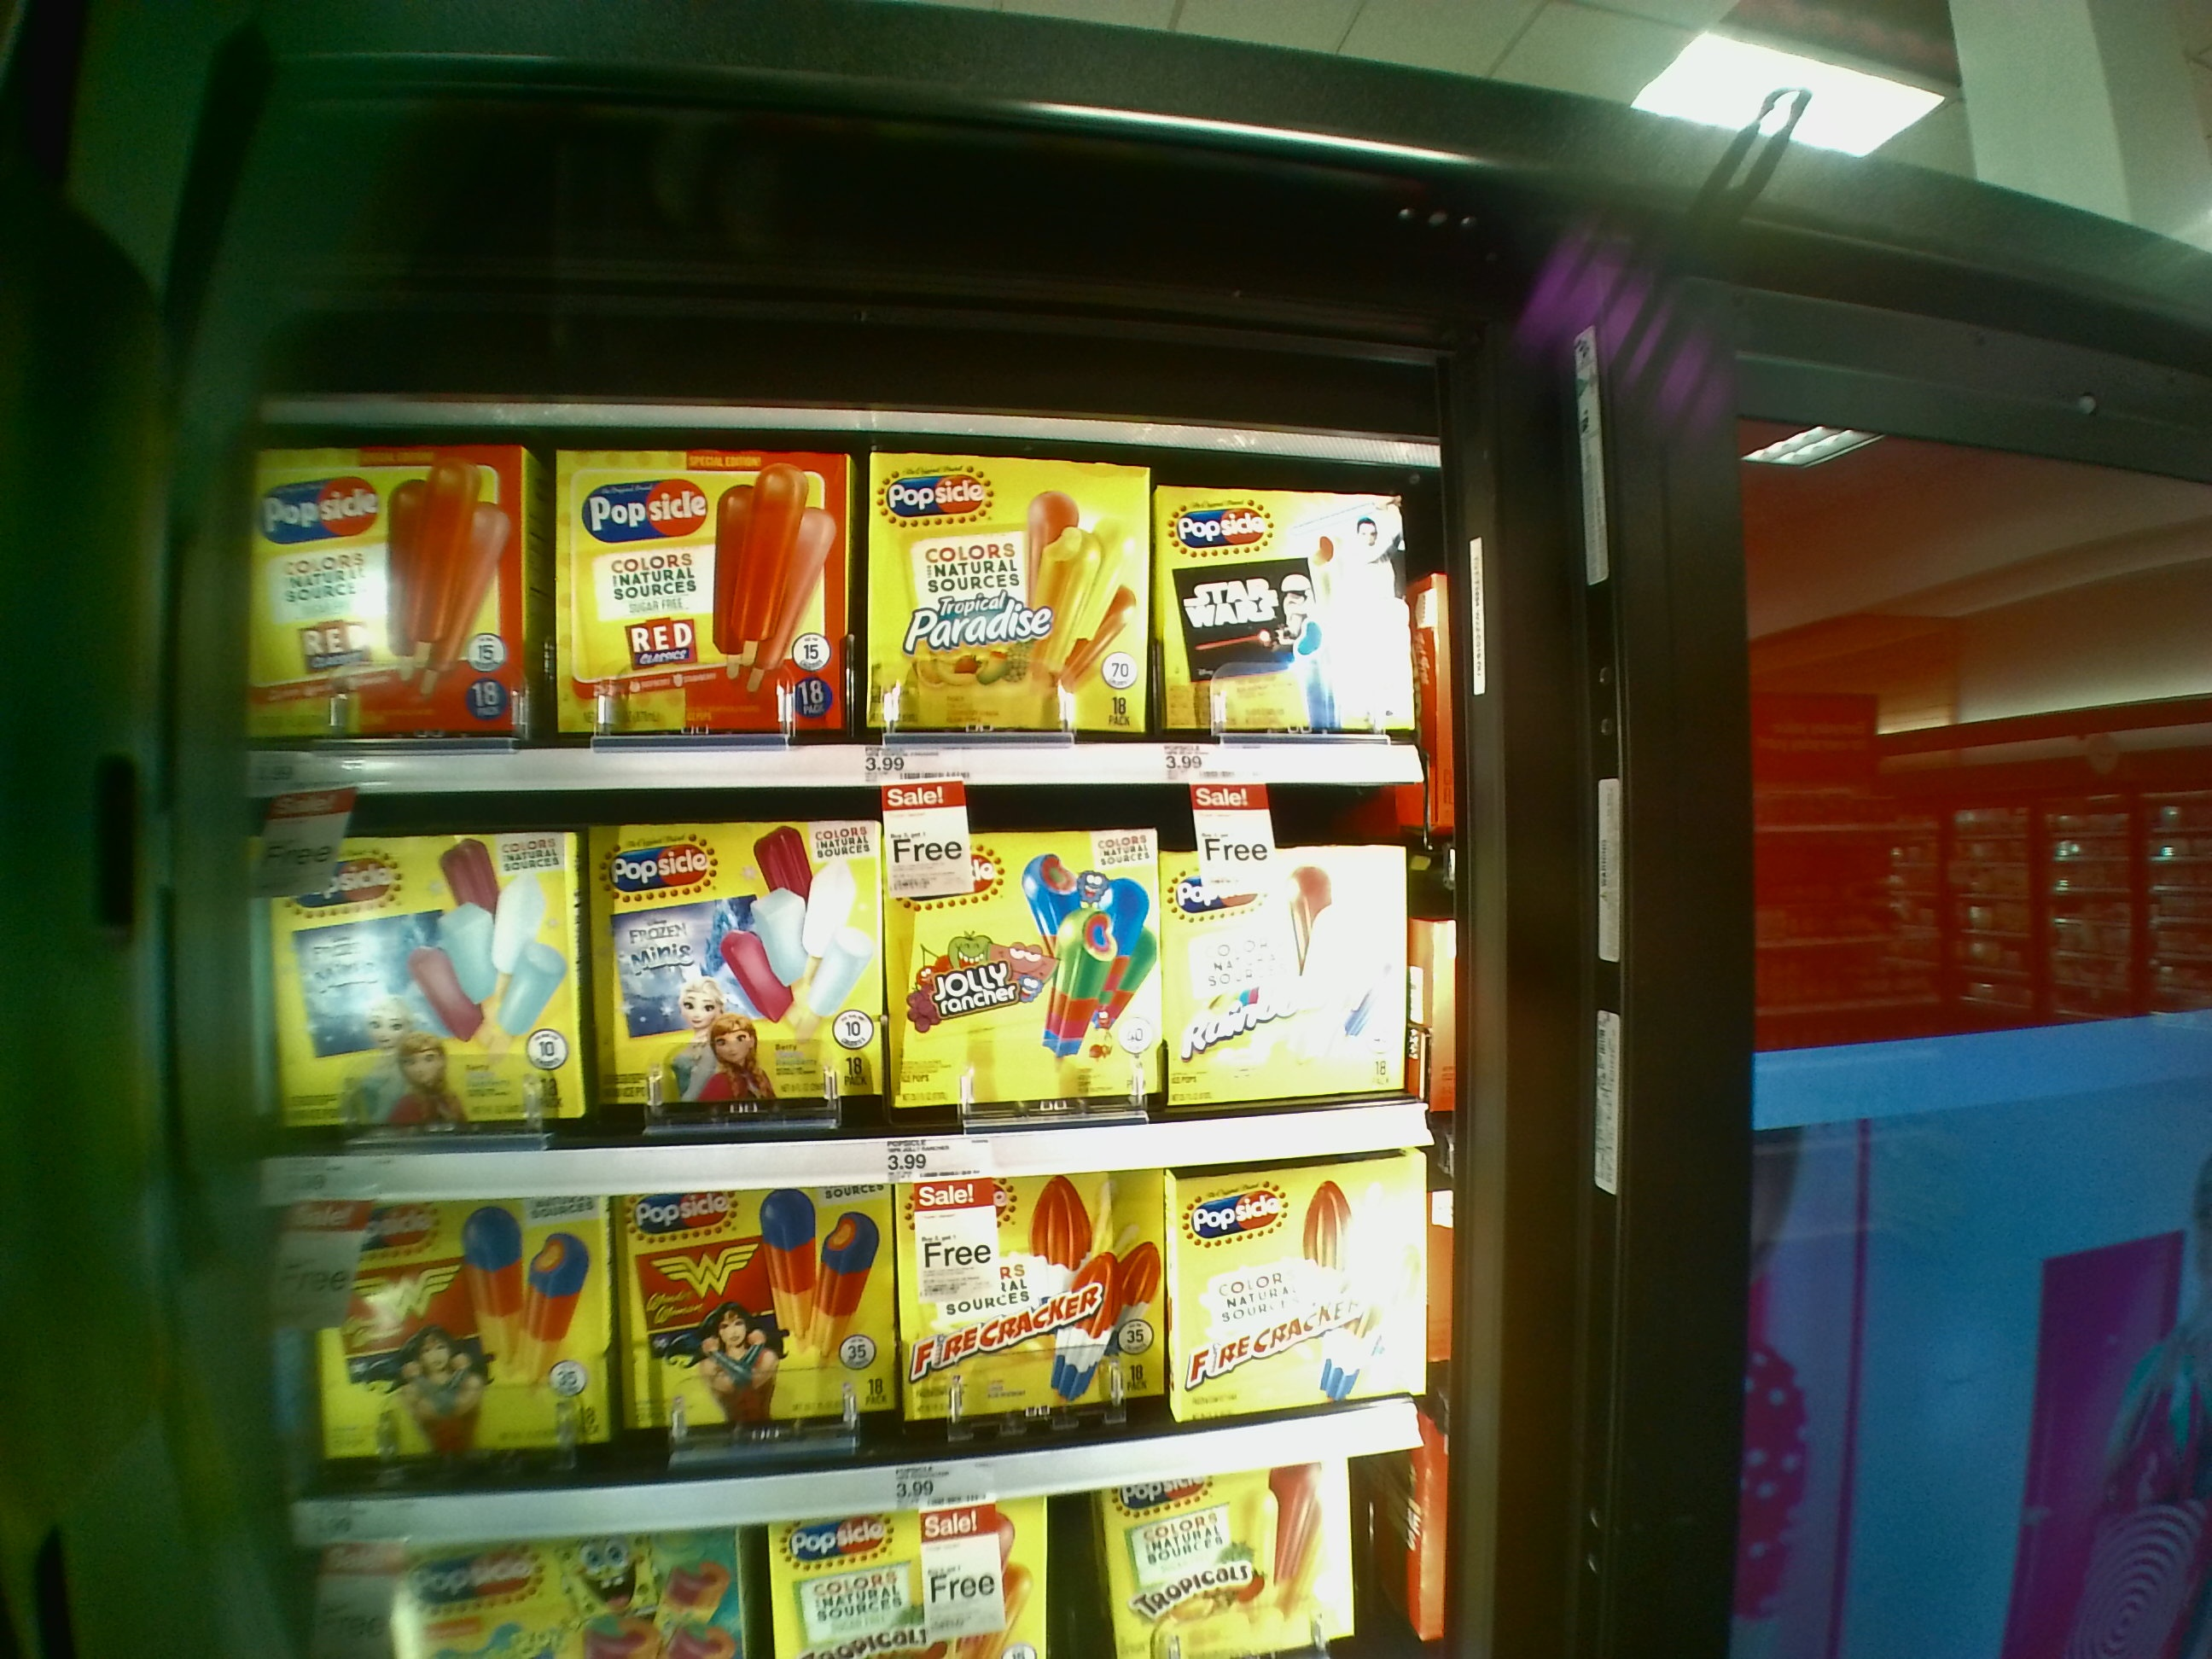shelf: (242, 382, 1461, 789), (256, 786, 1447, 1190), (268, 1188, 1409, 1518)
